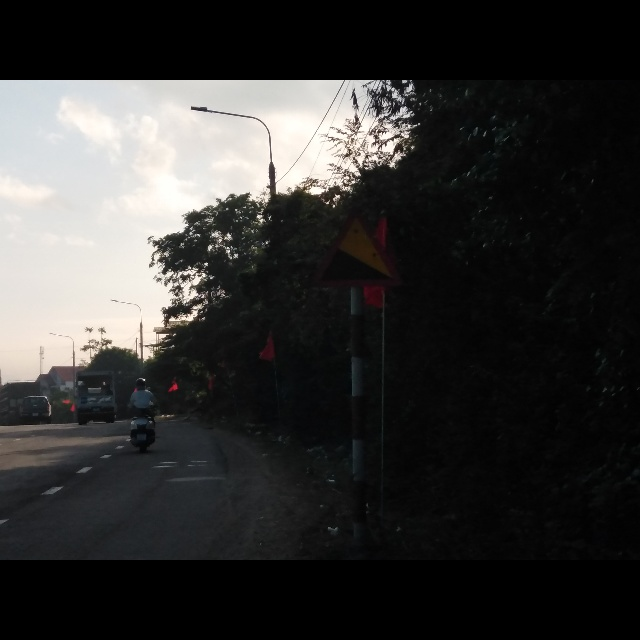Dốc lên nguy hiểm: (313, 207, 404, 294)
